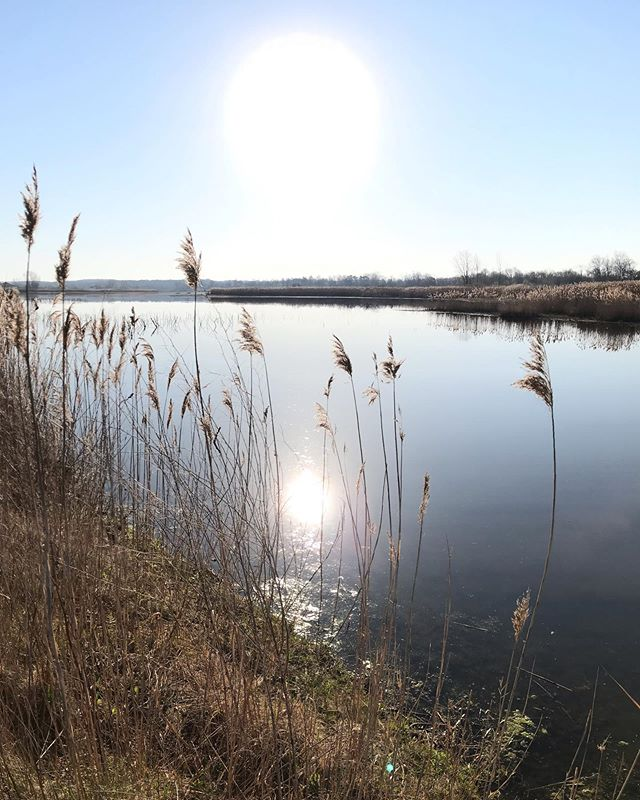river: (33, 291, 640, 702)
sky: (1, 1, 640, 279)
sun: (200, 32, 406, 160)
